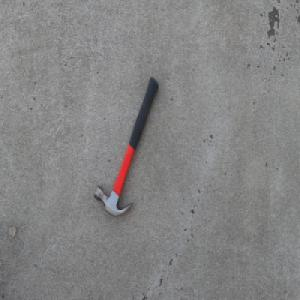Hammer: (93, 76, 158, 218)
